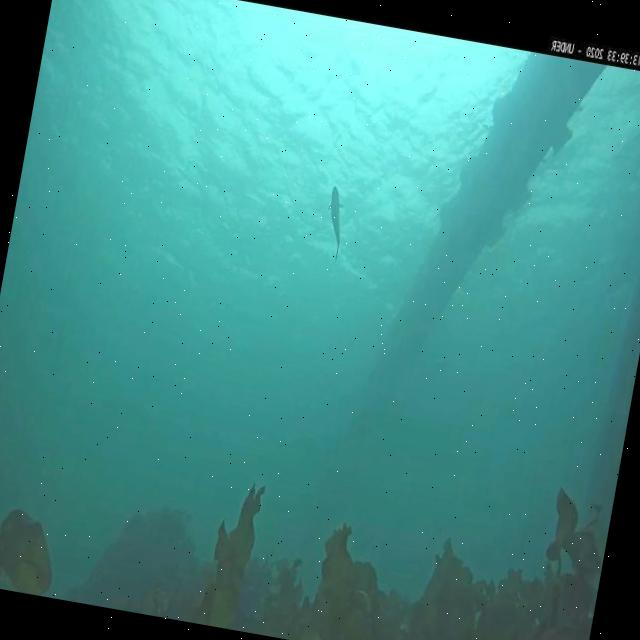fish: (318, 183, 348, 259)
